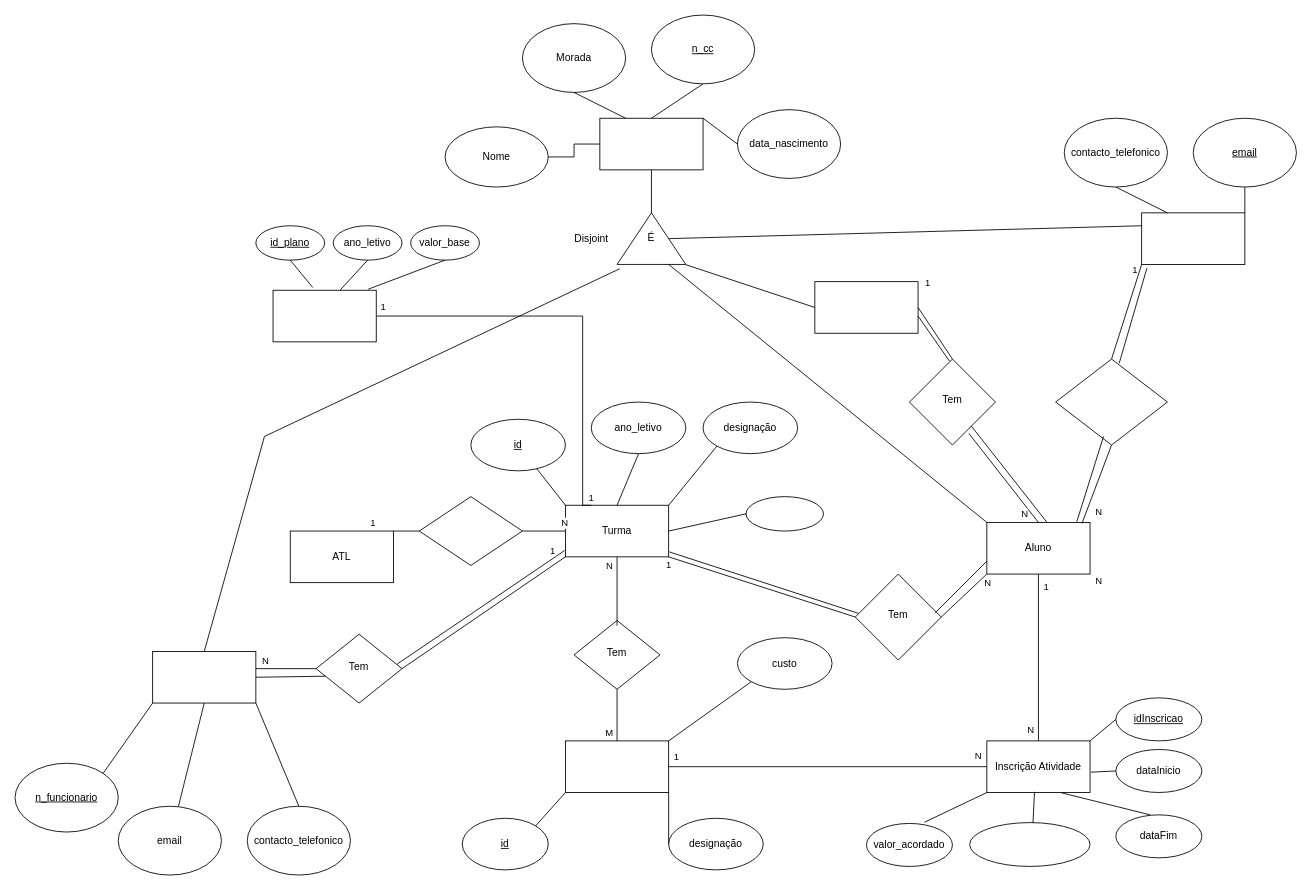
Image size: 1312x890. Some labels were removed from this diagram. The box of each missing label's shape, as (x1, y1, x2, y2) in pixels:
Atividades: (565, 740, 669, 792)
Encarregado de Educação: (1141, 212, 1245, 264)
n_max_alunos: (745, 496, 823, 531)
organizado por: (418, 496, 522, 565)
periodicidade_cobranca: (969, 822, 1090, 866)
Pessoa: (599, 117, 703, 170)
Pessoa c/ autorização: (814, 281, 918, 333)
Plano Mensalidade: (272, 289, 376, 342)
Professor: (152, 651, 256, 703)
Tipo de relacao: (1055, 358, 1167, 445)
